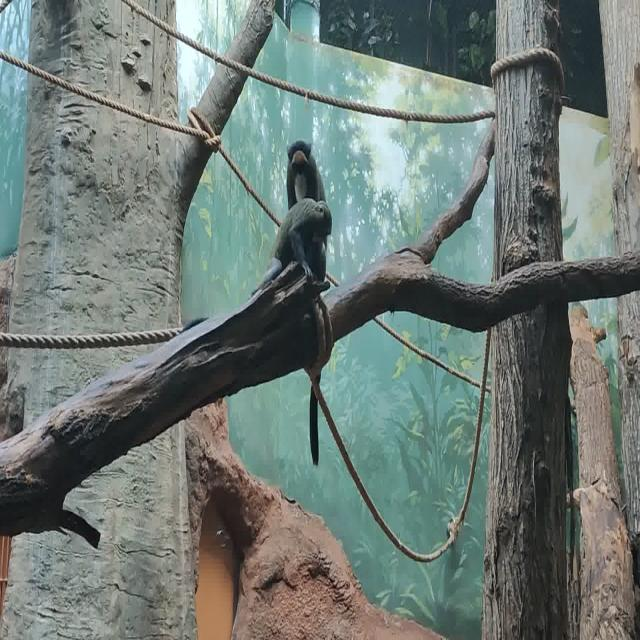monkey: (250, 198, 332, 284), (286, 140, 328, 212)
